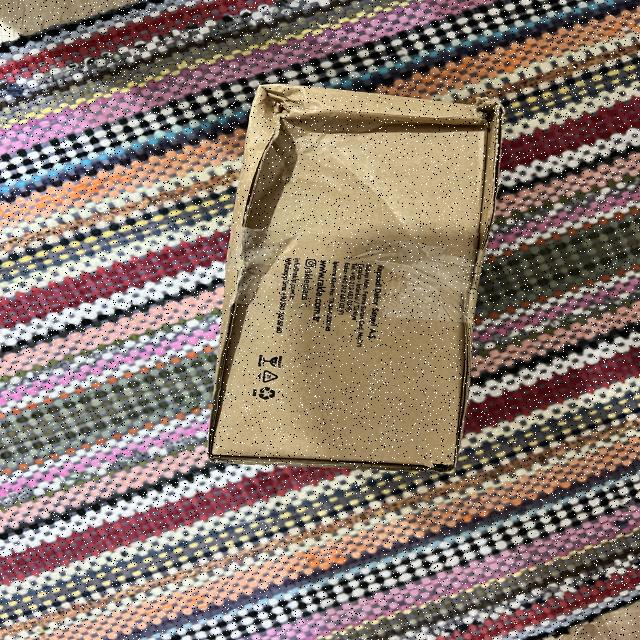damaged: (214, 86, 506, 474), (222, 78, 489, 233), (225, 243, 280, 328)
